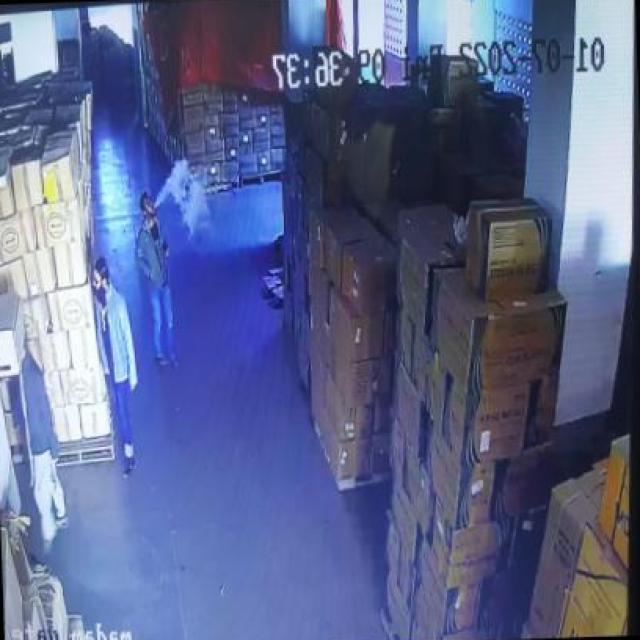fire: (156, 150, 206, 241)
